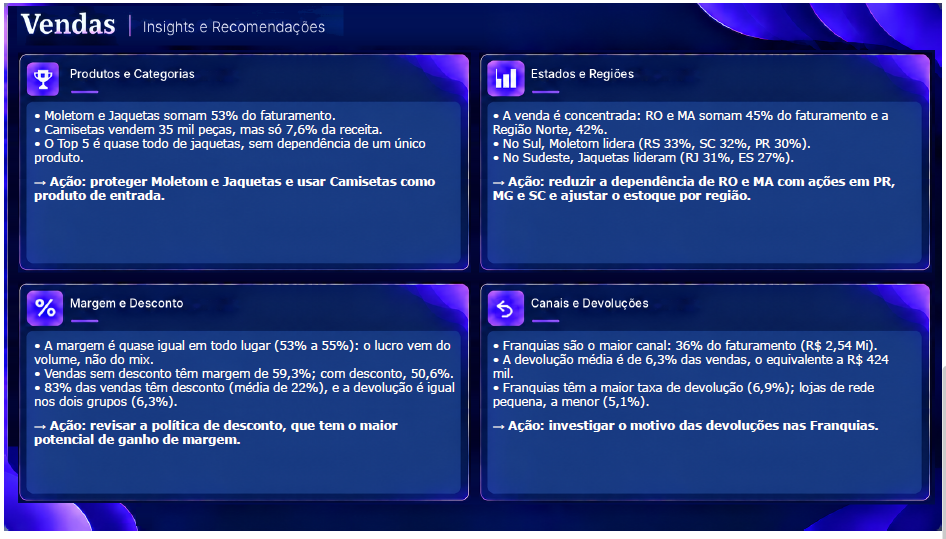

What the dashboard file says about the page in this screenshot:
{"tool":"powerbi","page":{"name":"Insights","canvas":[1920,1080],"ordinal":2},"visuals":[{"type":"textbox","box":[60.5,213.8,842.4,261.4],"z":0},{"type":"textbox","box":[1000.1,213.8,855.4,306.7],"z":1},{"type":"textbox","box":[60.5,684.7,868.3,313.2],"z":2},{"type":"textbox","box":[1000.1,684.7,855.4,270],"z":3}]}

Visuals, with their boxes in screenshot pixels (x1, y1, x2, y2), scaled from the page's 1920x1080 canvas onto the 946x539 screenshot:
textbox: detection(30, 107, 445, 237)
textbox: detection(493, 107, 914, 260)
textbox: detection(30, 342, 458, 498)
textbox: detection(493, 342, 914, 476)
